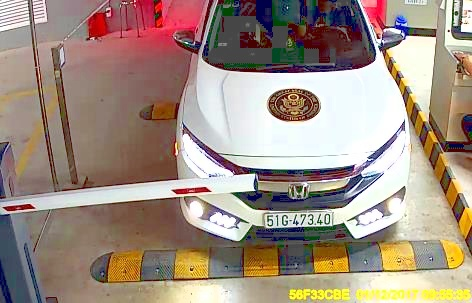plate: (263, 210, 333, 231)
